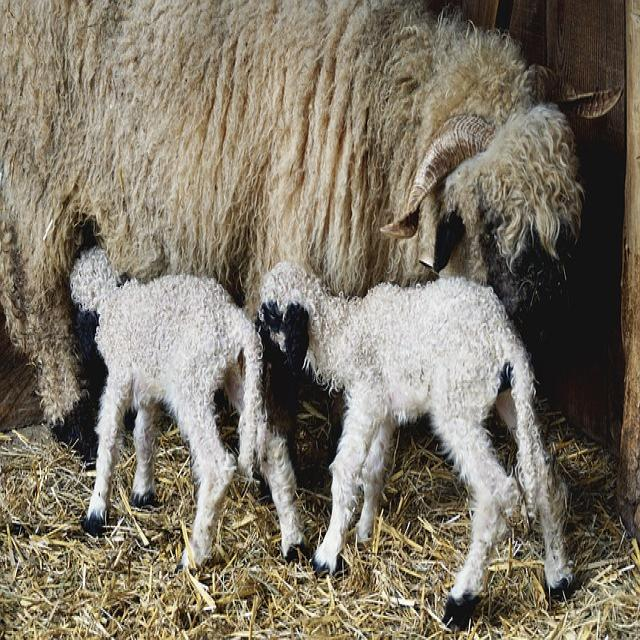goat: (0, 0, 585, 464), (254, 263, 576, 631), (70, 248, 302, 572)
